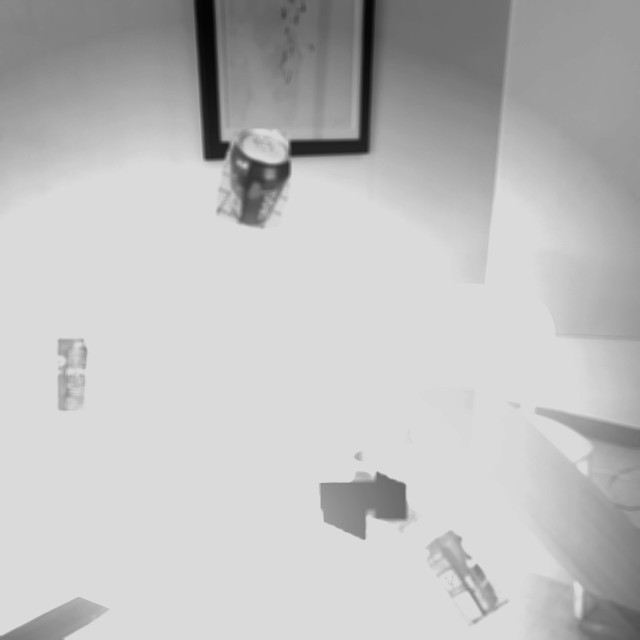pepsi: (319, 436, 439, 570), (216, 130, 290, 229)
sprite: (414, 522, 509, 628), (57, 338, 89, 412)
